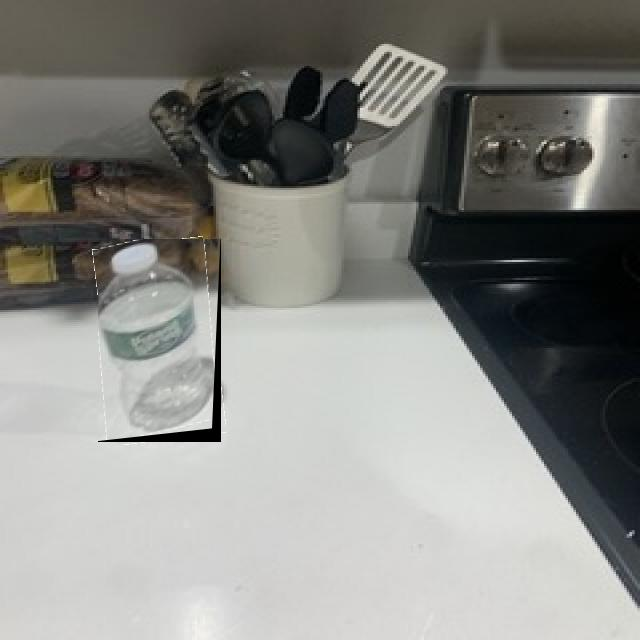water_bottle: (98, 239, 221, 442)
